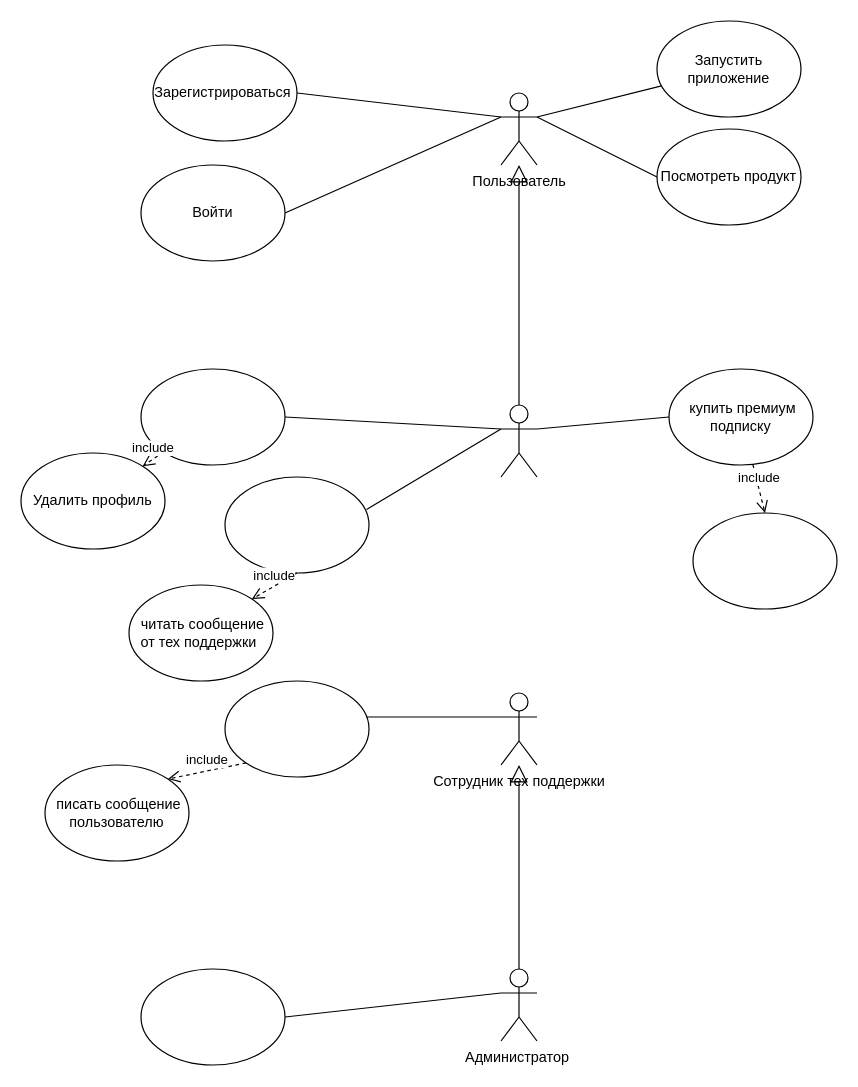
Image size: 858x1087. Some labels were removed from this diagram. Each missing label, with the box of its shape:
Авторизованный: (500, 404, 537, 477)
Отменить премиум подписку: (692, 512, 837, 609)
писать в тех поддержку: (224, 476, 369, 573)
Редактировать профиль: (140, 368, 285, 465)
Удалить пользователя: (140, 968, 285, 1065)
читать сообщение пользователя: (224, 680, 369, 777)
